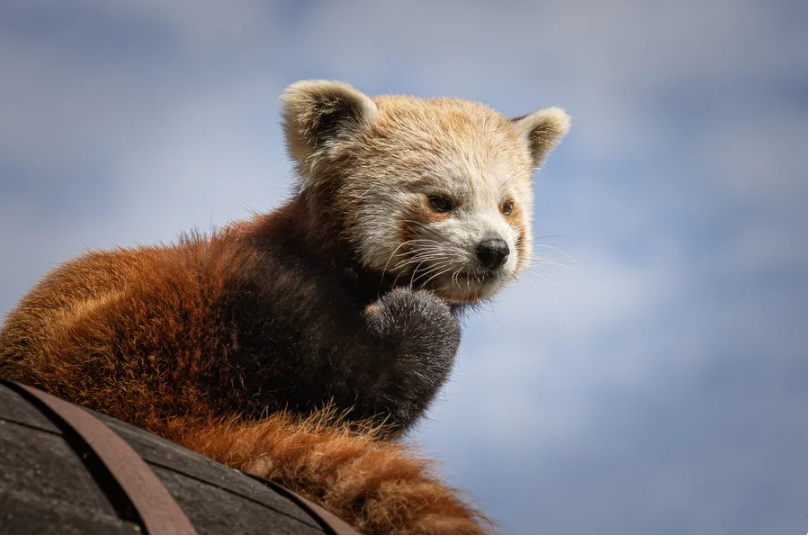red_panda: (262, 65, 576, 467)
